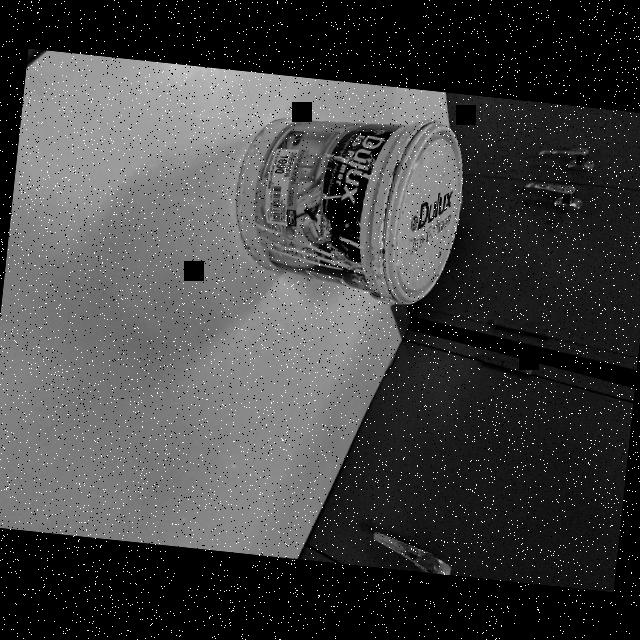paint_bucket: (218, 103, 472, 310)
